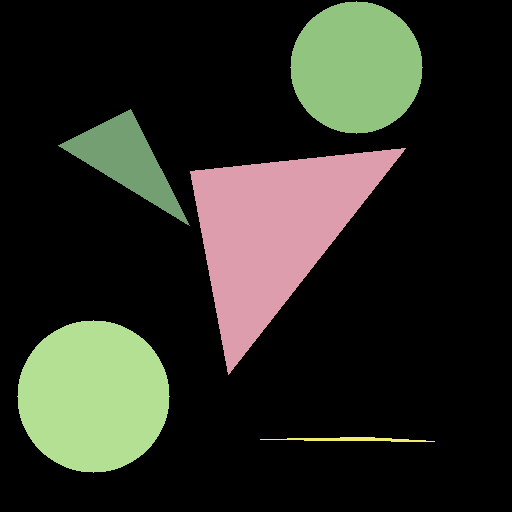circle: (17, 320, 169, 472), (290, 1, 422, 133)
triangle: (190, 148, 405, 374), (58, 109, 189, 225)
